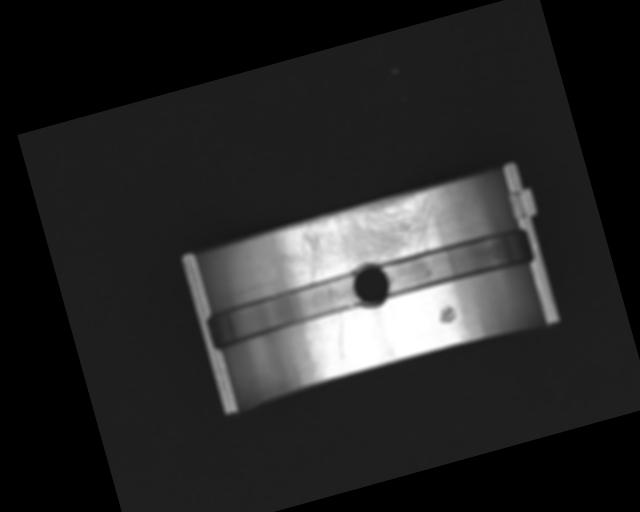bruise: (436, 302, 459, 326)
gap: (205, 272, 363, 349), (379, 225, 534, 299)
hole: (347, 260, 394, 310)
nick: (329, 310, 354, 359)
scratch: (278, 188, 443, 288)
